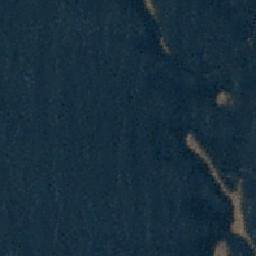debris: (230, 211, 244, 235), (145, 1, 160, 23), (200, 152, 215, 174), (218, 176, 232, 199), (156, 29, 169, 53), (215, 90, 232, 106), (231, 183, 240, 212), (187, 137, 201, 153), (244, 234, 256, 248), (215, 238, 226, 249)
